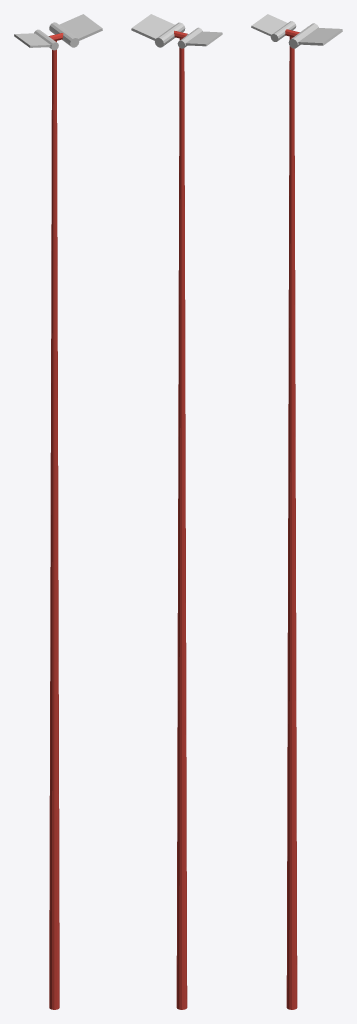
The model's file is poste-duplo.fbx.
3 views of the same model, side by side, from view 1: azimuth 30°, elevation 25°; view 2: azimuth 150°, elevation 25°; view 3: azimuth 330°, elevation 25° (orthographic).
Parts seen in each view (by area): view 1: Cylinder.002; view 2: Cylinder.002; view 3: Cylinder.002.
Boxes of the visible parts, <box> form: Cylinder.002: <box>14,14,102,1009</box>; Cylinder.002: <box>131,14,222,1009</box>; Cylinder.002: <box>251,14,342,1009</box>.
Size of the model in its own units: 78.67 by 1010 by 39.72.
